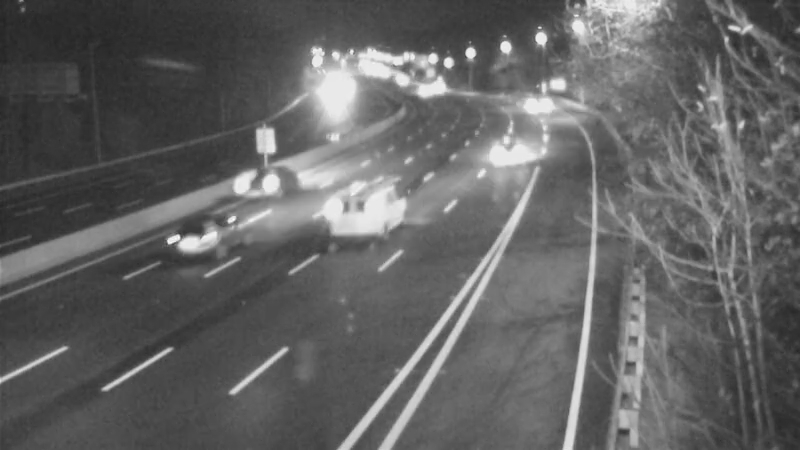vehicle: (474, 111, 554, 191), (224, 140, 304, 220), (315, 176, 395, 256), (150, 211, 230, 291), (508, 82, 558, 132)
